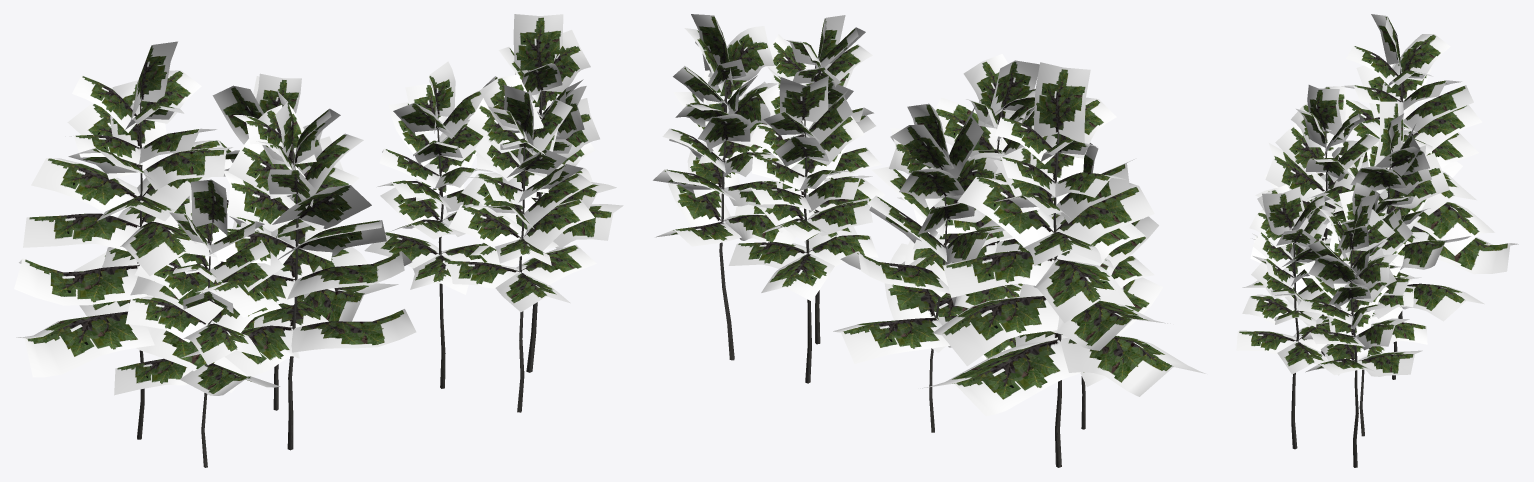
The model's file is Bushes05.fbx.
3 renders of one model, left to right at view 1: azimuth 30°, elevation 25°; view 2: azimuth 150°, elevation 25°; view 3: azimuth 270°, elevation 25°, orthographic. The views are drawn at different scales.
Parts seen in each view (by area): view 1: ForestBush10LOD0, ForestBush11LOD0; view 2: ForestBush10LOD0, ForestBush11LOD0; view 3: ForestBush10LOD0, ForestBush11LOD0.
Part boxes in pixels (<box>): ForestBush10LOD0: <box>14,41,416,467</box>; ForestBush11LOD0: <box>364,14,623,412</box>; ForestBush10LOD0: <box>833,54,1205,467</box>; ForestBush11LOD0: <box>653,14,885,383</box>; ForestBush10LOD0: <box>1242,14,1518,379</box>; ForestBush11LOD0: <box>1236,182,1427,467</box>.
Size of what is drawn, in the model's own units: 988 by 659 by 539.
